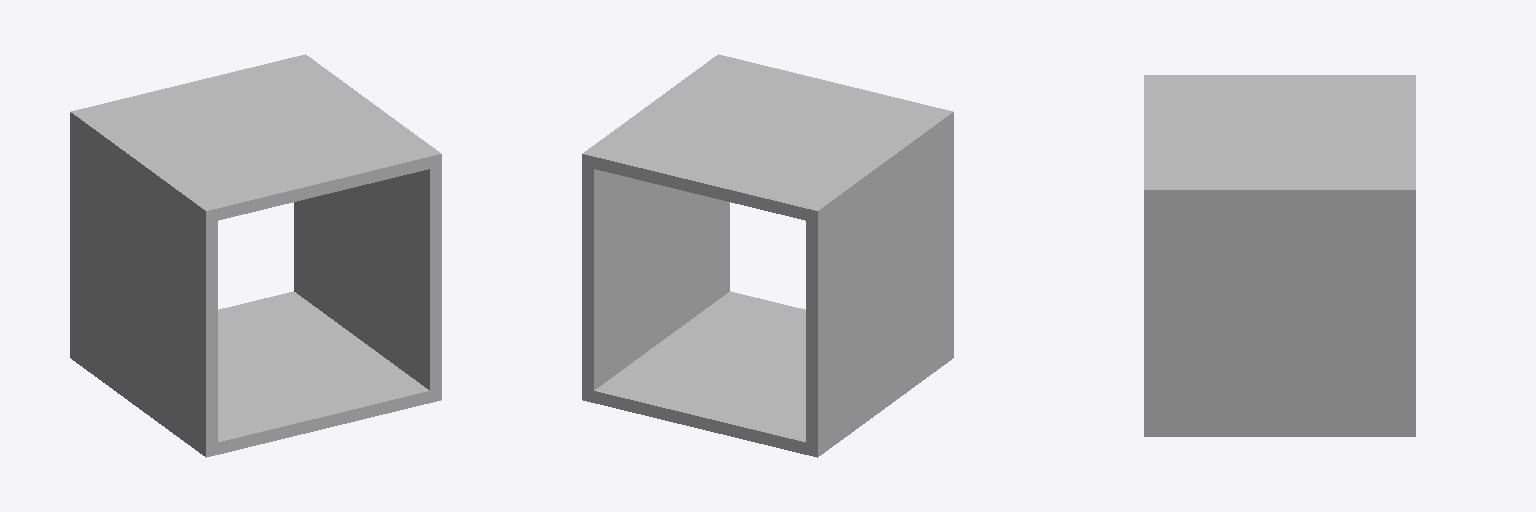
File: CubeHollow2SidesShape.obj
3 renders of one model, left to right at view 1: azimuth 30°, elevation 25°; view 2: azimuth 150°, elevation 25°; view 3: azimuth 270°, elevation 25°, orthographic.
Parts seen in each view (by area): view 1: Cube.000_Cube.002; view 2: Cube.000_Cube.002; view 3: Cube.000_Cube.002.
Part boxes in pixels (x1,y1,x2,y2): Cube.000_Cube.002: (70,54,441,457); Cube.000_Cube.002: (582,54,953,457); Cube.000_Cube.002: (1144,75,1415,436).
Size of the model in its own units: 200 by 200 by 200.